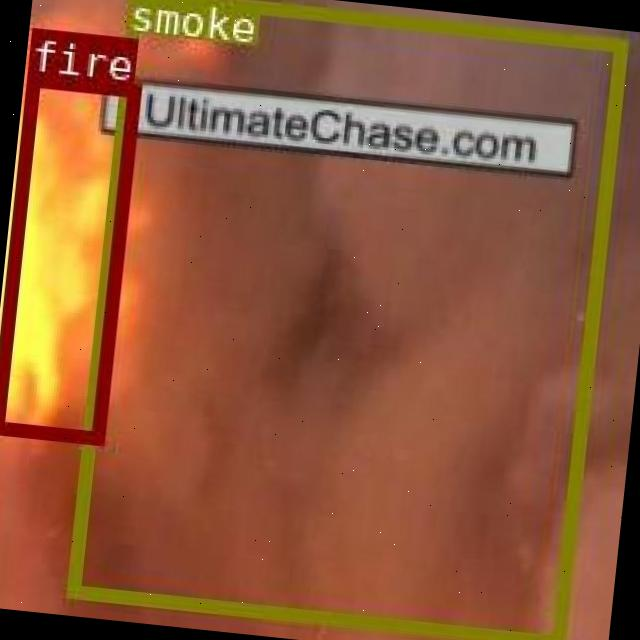fire: (0, 71, 137, 443)
smoke: (66, 0, 625, 640)
